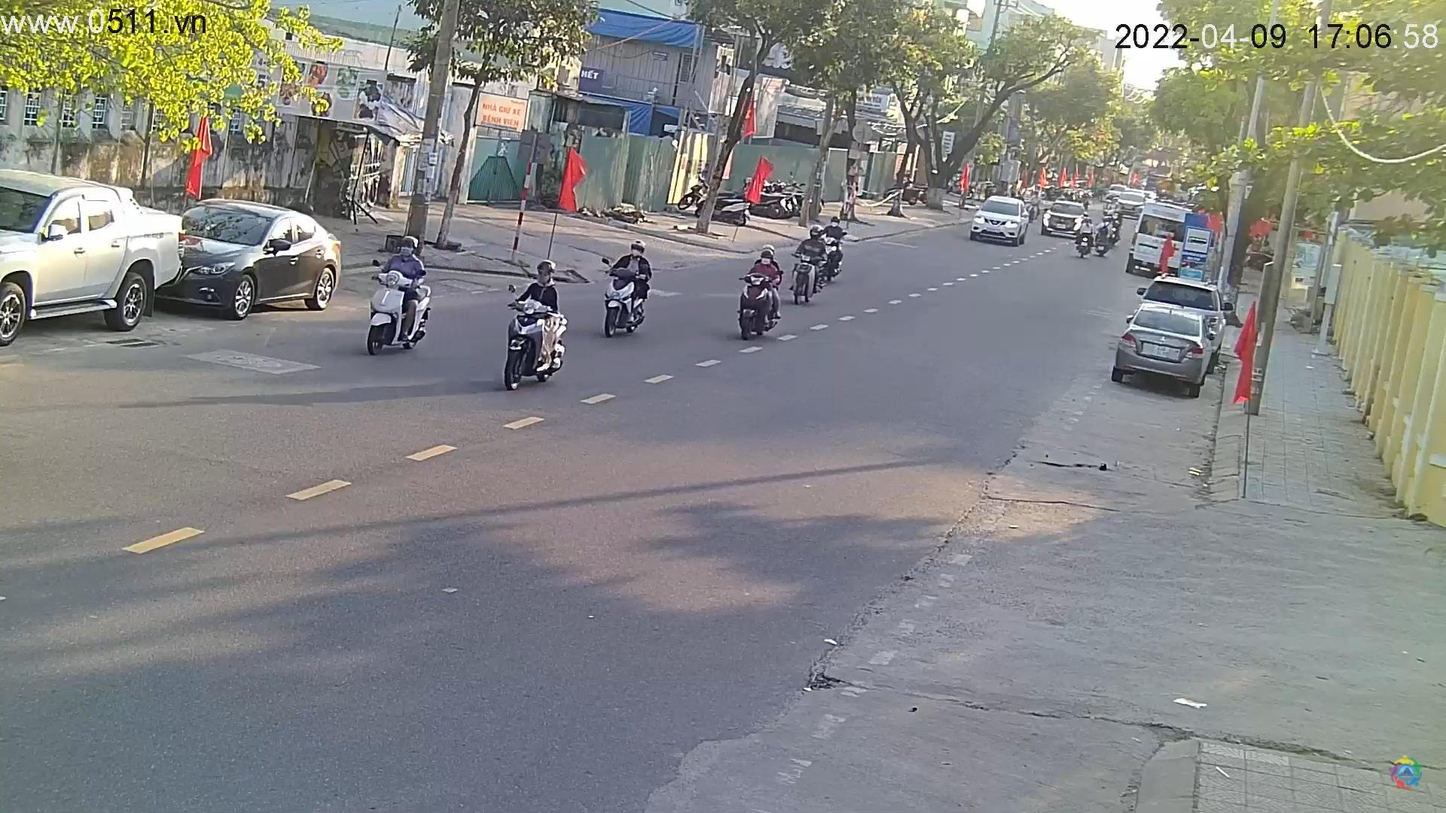car: (2, 167, 186, 353), (163, 200, 350, 320), (967, 196, 1031, 245)
motorbike: (360, 256, 438, 363), (504, 314, 567, 389), (601, 279, 653, 338), (737, 277, 785, 340)
